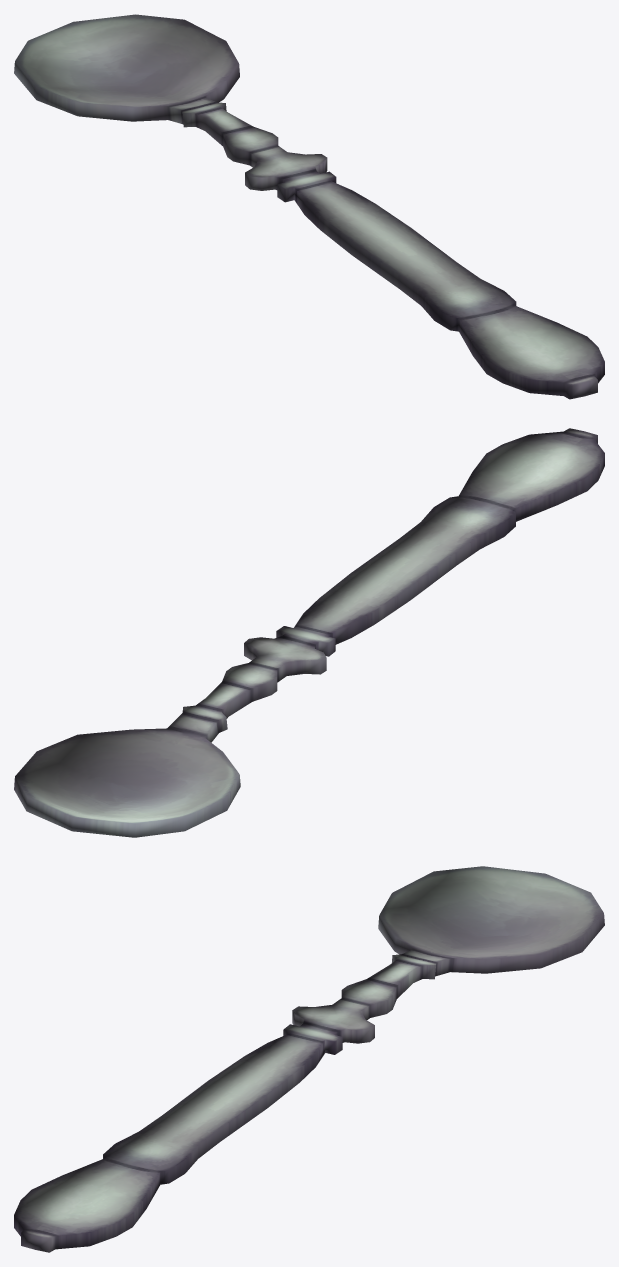
File: Lv1_Cuchara2.fbx
3 views of the same model, one above another, from view 1: azimuth 30°, elevation 25°; view 2: azimuth 150°, elevation 25°; view 3: azimuth 330°, elevation 25° (orthographic).
Visible parts, largest first — view 1: Lv1_Cuchara2; view 2: Lv1_Cuchara2; view 3: Lv1_Cuchara2.
Boxes of the visible parts, box(x1,y1,x2,y2) form: Lv1_Cuchara2: box(14, 14, 604, 399); Lv1_Cuchara2: box(14, 428, 604, 837); Lv1_Cuchara2: box(14, 866, 604, 1252).
Bounding box in the file's own units: 2.43 × 0.5293 × 11.34.
Materials: 1 (1 with a texture image).
